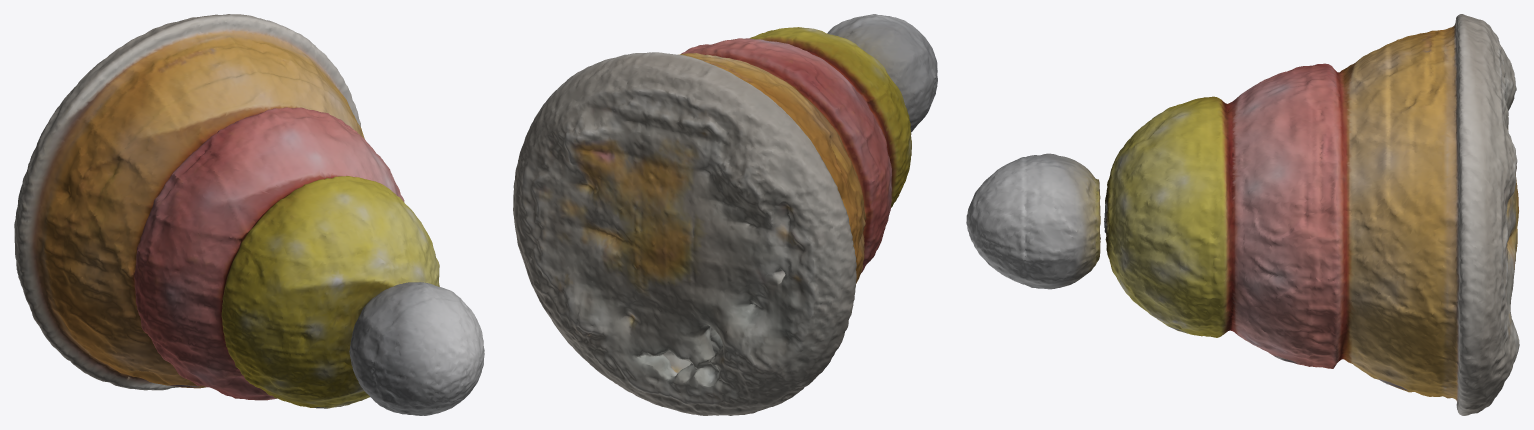
Rendered from chicken.glb.
The picture shows the model from 3 angles, left to right: view 1: azimuth 30°, elevation 25°; view 2: azimuth 150°, elevation 25°; view 3: azimuth 270°, elevation 25°; orthographic projection. The views are drawn at different scales.
Bounding box in the file's own units: 0.7281 × 0.7296 × 1.
